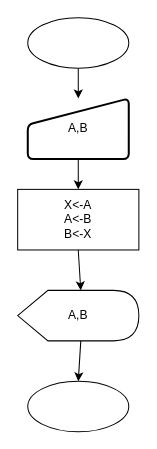
The diagram is 157 pixels wide and 449 high, and some of its shapes have lost their labels. The shapes that lost their labels are listed below. From the top down, each one's centre as x and y in pixels, then its label:
[78,42]: INICIO
[78,406]: FIM
